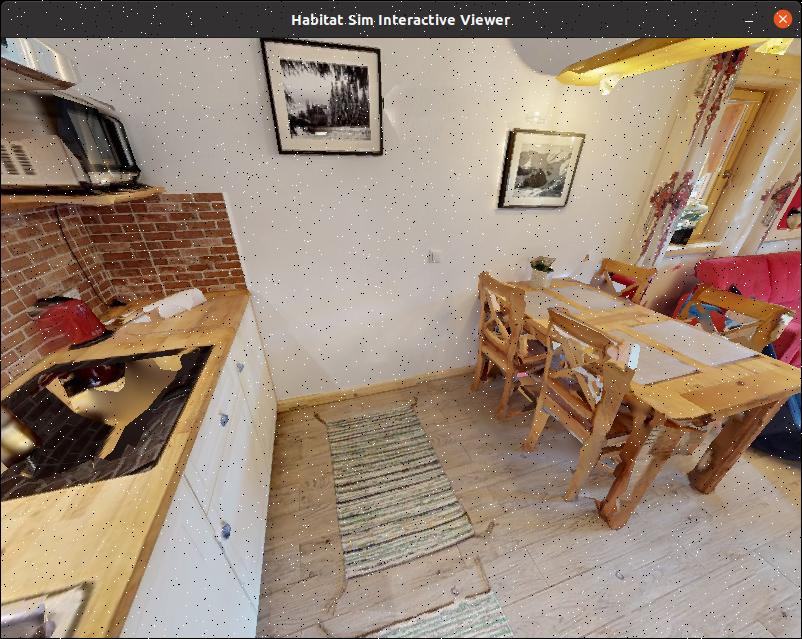chair: (529, 315, 681, 486), (479, 265, 544, 415)
table: (467, 221, 802, 543)
